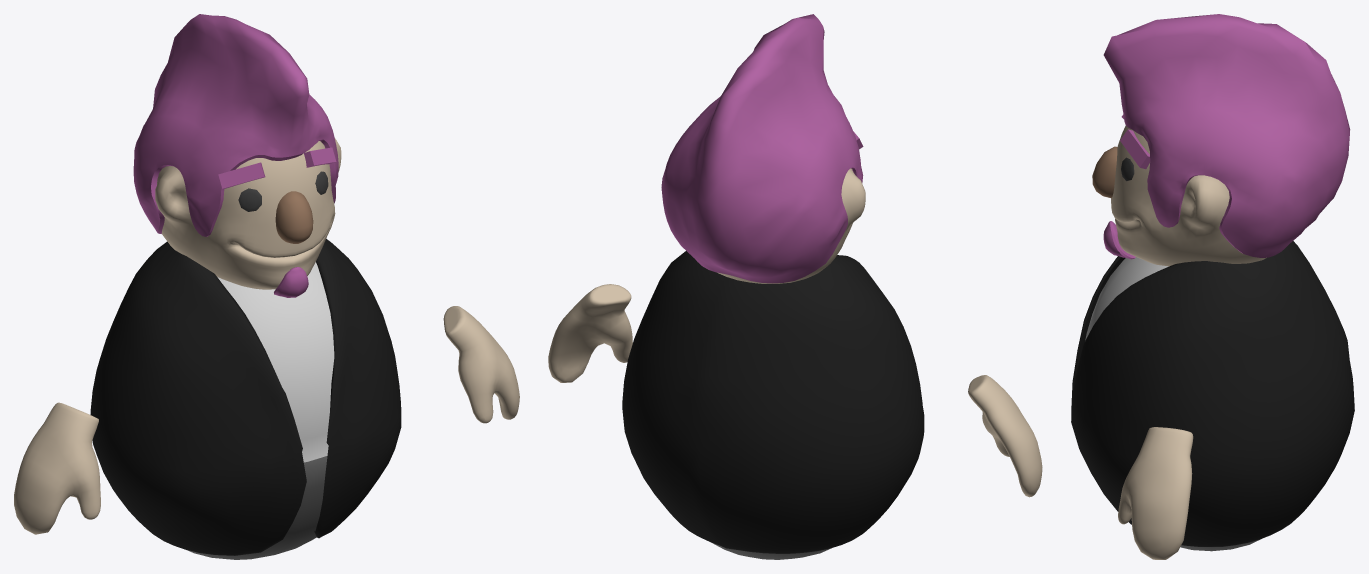
The model's file is NPC_male01_dressed.fbx.
3 renders of one model, left to right at view 1: azimuth 30°, elevation 25°; view 2: azimuth 150°, elevation 25°; view 3: azimuth 270°, elevation 25°, orthographic. The views are drawn at different scales.
Visible parts, largest first — view 1: Group31916, mohawk, Group18725, Group31901, Group65443, Group65442, Group65441, soul_patch:Group28725, pCube15; view 2: Group31916, mohawk, Group65442, Group65443, Group18725; view 3: Group31916, mohawk, Group18725, Group65442, Group31901, Group65441, pCube15, soul_patch:Group28725.
Part boxes in pixels (box(x1,y1,x2,y2)): Group31916: box(90, 238, 401, 555); mohawk: box(133, 14, 338, 236); Group18725: box(155, 138, 341, 289); Group31901: box(187, 262, 334, 559); Group65443: box(14, 402, 100, 534); Group65442: box(443, 306, 519, 423); Group65441: box(275, 191, 313, 243); soul_patch:Group28725: box(274, 267, 308, 297); pCube15: box(218, 162, 265, 189); Group31916: box(622, 251, 924, 553); mohawk: box(661, 14, 863, 283); Group65442: box(548, 284, 632, 382); Group65443: box(968, 375, 1042, 497); Group18725: box(717, 168, 865, 283); Group31916: box(1071, 241, 1354, 546); mohawk: box(1103, 14, 1350, 257); Group18725: box(1111, 125, 1266, 266); Group65442: box(1118, 427, 1193, 559); Group31901: box(1085, 257, 1260, 551); Group65441: box(1092, 146, 1117, 198); pCube15: box(1120, 129, 1150, 169); soul_patch:Group28725: box(1103, 221, 1135, 259).
Size of the model in its own units: 2.28 by 2.31 by 1.14.
